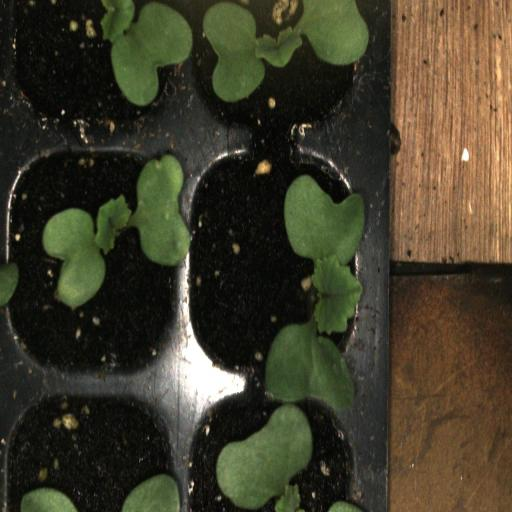Germinacao: (184, 143, 368, 391), (0, 145, 180, 390), (183, 0, 366, 143)
